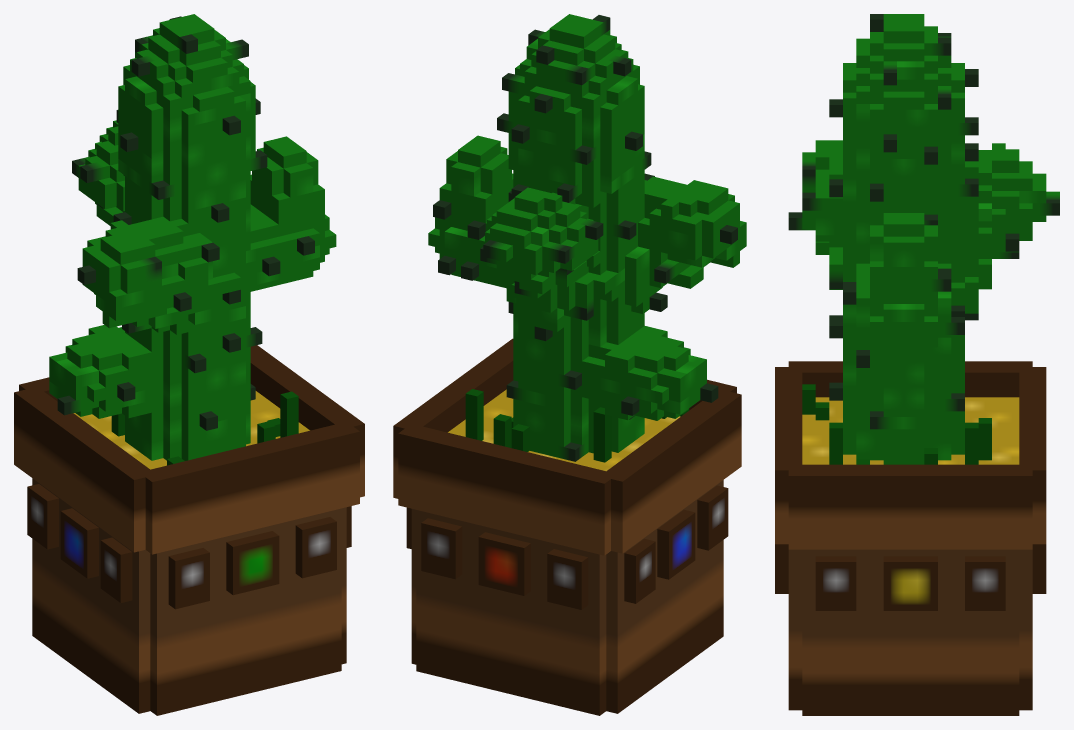
Rendered from Cactus_maceta.fbx.
The picture shows the model from 3 angles, left to right: view 1: azimuth 30°, elevation 25°; view 2: azimuth 150°, elevation 25°; view 3: azimuth 270°, elevation 25°; orthographic projection. The views are drawn at different scales.
Parts seen in each view (by area): view 1: MACETA, CACTUS, ARENA, PLANTAS; view 2: MACETA, CACTUS, PLANTAS, ARENA; view 3: MACETA, CACTUS, ARENA, PLANTAS.
Part boxes in pixels (x1,y1,x2,y2): MACETA: [14, 345, 364, 715]; CACTUS: [49, 14, 336, 460]; ARENA: [73, 391, 309, 469]; PLANTAS: [111, 391, 298, 465]; MACETA: [393, 338, 741, 715]; CACTUS: [428, 14, 746, 461]; PLANTAS: [465, 389, 689, 462]; ARENA: [448, 389, 680, 471]; MACETA: [775, 361, 1046, 715]; CACTUS: [788, 14, 1059, 464]; ARENA: [802, 397, 1019, 464]; PLANTAS: [802, 384, 991, 464].
Size of the model in its own units: 47.4 by 107 by 43.28.
Materials: 1 (1 with a texture image).
